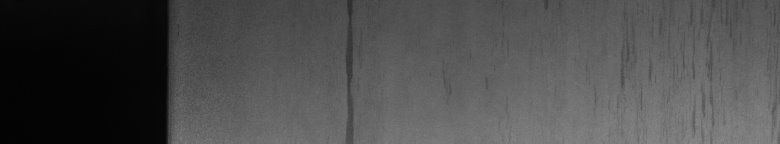hd: (341, 4, 358, 136)
